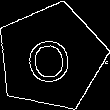O_N: (27, 29, 76, 84)
